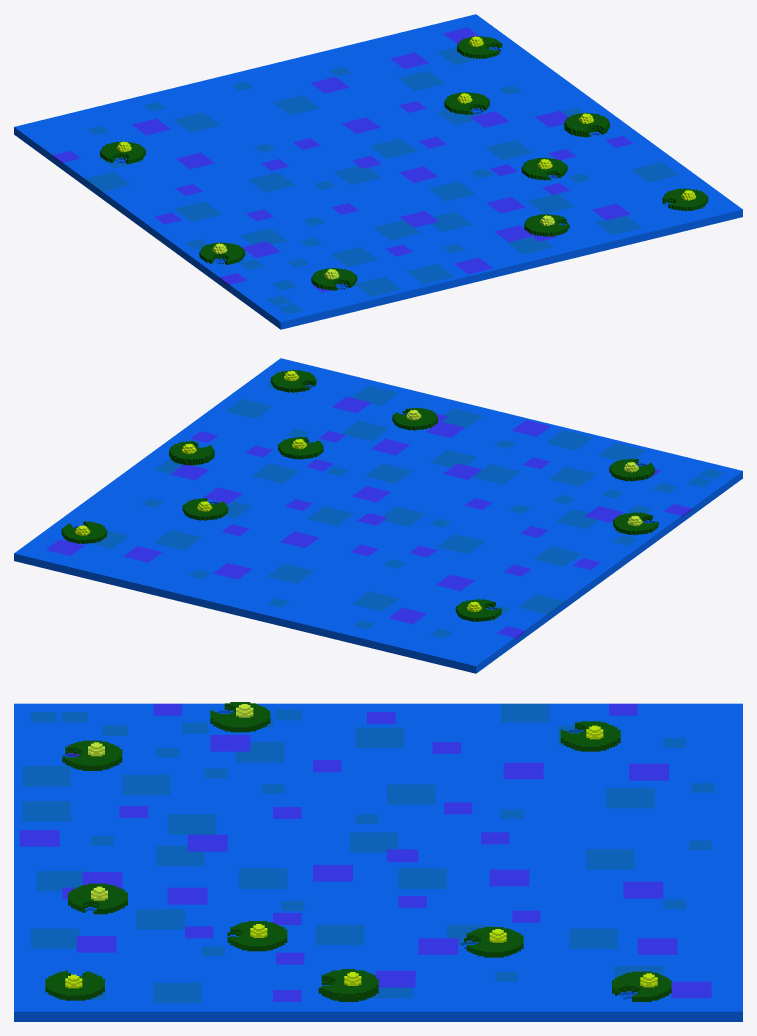
File: LakeAndBridge-0-Lake.obj
The picture shows the model from 3 angles, top to bottom: view 1: azimuth 30°, elevation 25°; view 2: azimuth 150°, elevation 25°; view 3: azimuth 270°, elevation 25°; orthographic projection. The views are drawn at different scales.
Parts seen in each view (by area): view 1: Lake; view 2: Lake; view 3: Lake.
Part boxes in pixels (<box>): Lake: <box>14,14,742,329</box>; Lake: <box>14,358,742,673</box>; Lake: <box>14,702,742,1021</box>.
Size of the model in its own units: 25.6 by 1 by 25.6.
Materials: 1 (1 with a texture image).
